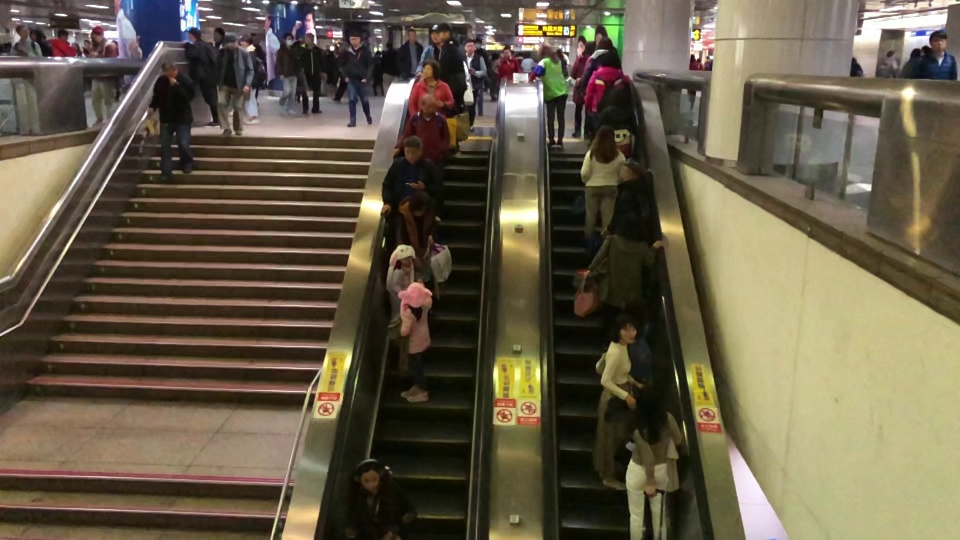person_head: (639, 388, 666, 416), (611, 313, 637, 342), (402, 134, 424, 163), (359, 463, 382, 489), (621, 212, 644, 238), (407, 192, 430, 217), (622, 161, 643, 180), (624, 296, 647, 313), (929, 29, 948, 49), (422, 59, 440, 78), (597, 124, 615, 143), (421, 93, 437, 114), (606, 89, 624, 106), (160, 60, 178, 76), (397, 252, 414, 267), (407, 292, 421, 308), (601, 53, 617, 67), (186, 26, 201, 40), (222, 34, 238, 47), (349, 30, 362, 46), (597, 36, 613, 49), (539, 42, 552, 57), (92, 27, 104, 43), (15, 23, 28, 37), (464, 39, 475, 54), (56, 28, 69, 40), (283, 32, 294, 46), (240, 34, 252, 46), (431, 28, 440, 43), (406, 29, 417, 41), (305, 32, 315, 43), (585, 41, 595, 52), (908, 47, 919, 57), (886, 49, 895, 59), (503, 47, 511, 56), (385, 40, 392, 50), (475, 38, 482, 47), (690, 53, 696, 60), (852, 57, 857, 64), (524, 52, 530, 57)
person_vbox: (589, 313, 644, 494), (624, 388, 683, 540), (582, 212, 666, 314), (393, 92, 451, 224), (579, 123, 626, 251), (147, 61, 196, 183), (348, 458, 418, 540), (379, 134, 444, 218), (529, 41, 569, 149), (214, 34, 255, 139), (181, 26, 222, 127), (616, 296, 662, 383), (336, 30, 375, 128), (399, 292, 431, 406), (606, 161, 656, 232), (386, 252, 414, 376), (83, 27, 118, 126), (584, 53, 632, 114), (292, 32, 328, 113), (596, 89, 639, 156), (408, 59, 454, 119), (394, 192, 438, 253), (572, 40, 595, 139), (912, 30, 957, 80), (463, 39, 487, 131), (272, 32, 298, 114), (582, 36, 613, 89), (240, 34, 265, 98), (474, 39, 490, 116), (415, 27, 440, 75), (397, 29, 423, 75), (11, 24, 43, 57), (495, 46, 521, 81), (381, 40, 397, 95), (47, 28, 77, 57), (687, 52, 702, 108), (877, 49, 900, 78), (899, 47, 920, 78), (848, 58, 863, 77), (521, 51, 533, 71), (705, 58, 712, 70)
